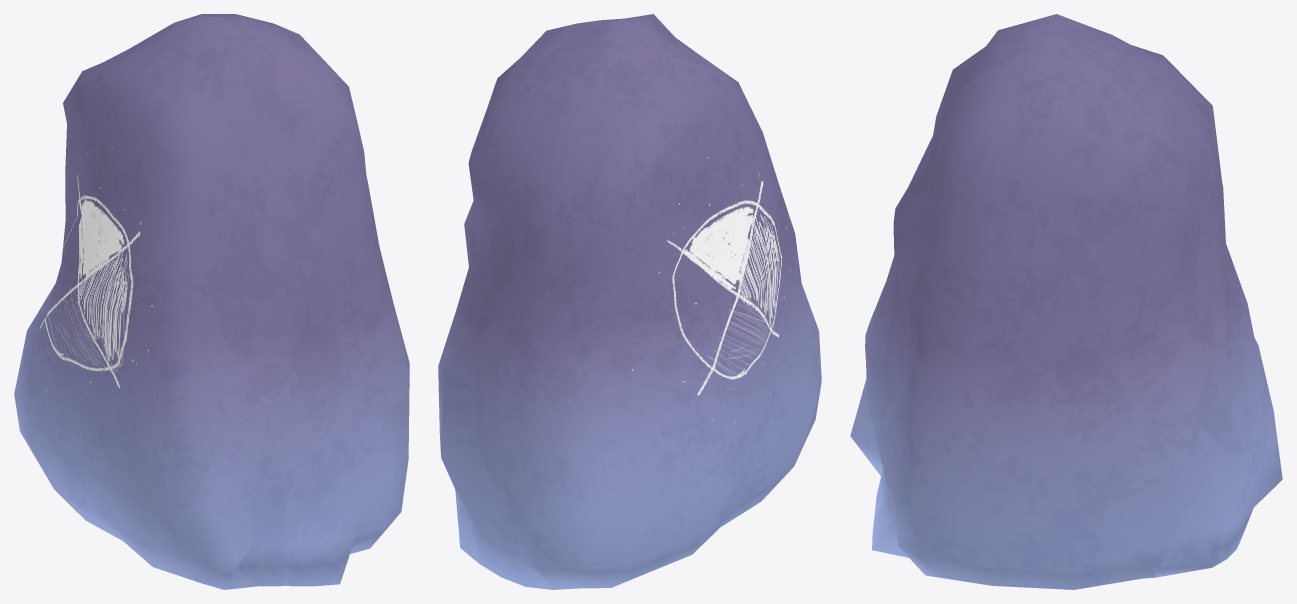
Rendered from rock_wheel.glb.
3 views of the same model, side by side, from view 1: azimuth 30°, elevation 25°; view 2: azimuth 150°, elevation 25°; view 3: azimuth 270°, elevation 25° (orthographic). The views are drawn at different scales.
Visible parts, largest first — view 1: pCube1.001; view 2: pCube1.001; view 3: pCube1.001.
Part boxes in pixels (<box>): pCube1.001: <box>14,14,409,589</box>; pCube1.001: <box>438,14,821,589</box>; pCube1.001: <box>850,14,1282,589</box>.
Size of the model in its own units: 0.6984 by 1.15 by 0.8715.
1 material, 1 textured.
